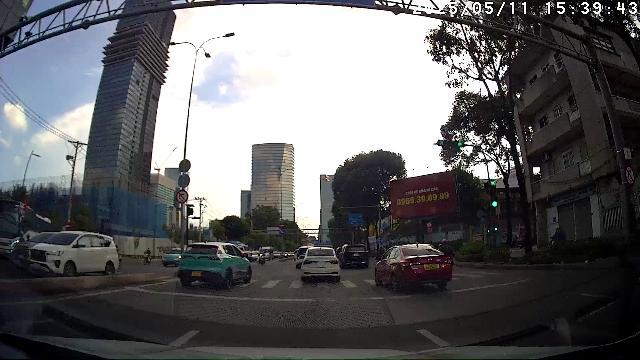103b-cam-oto-re-phai: (624, 165, 636, 185), (176, 190, 188, 204)
